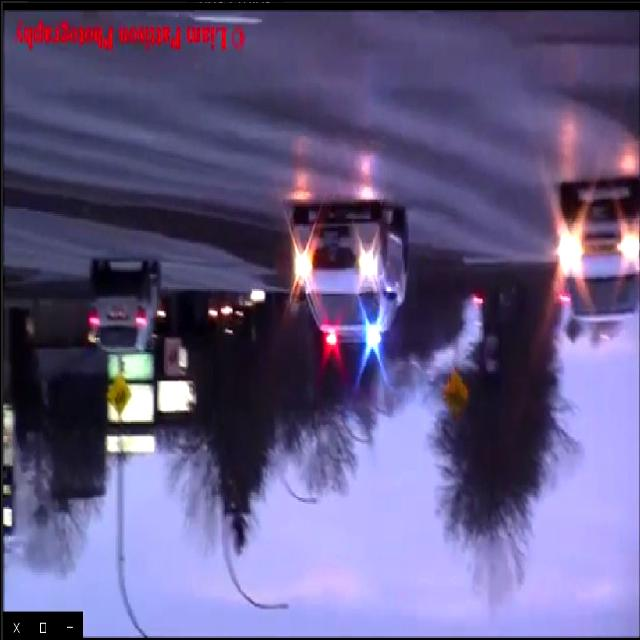emergency: (282, 192, 411, 358)
